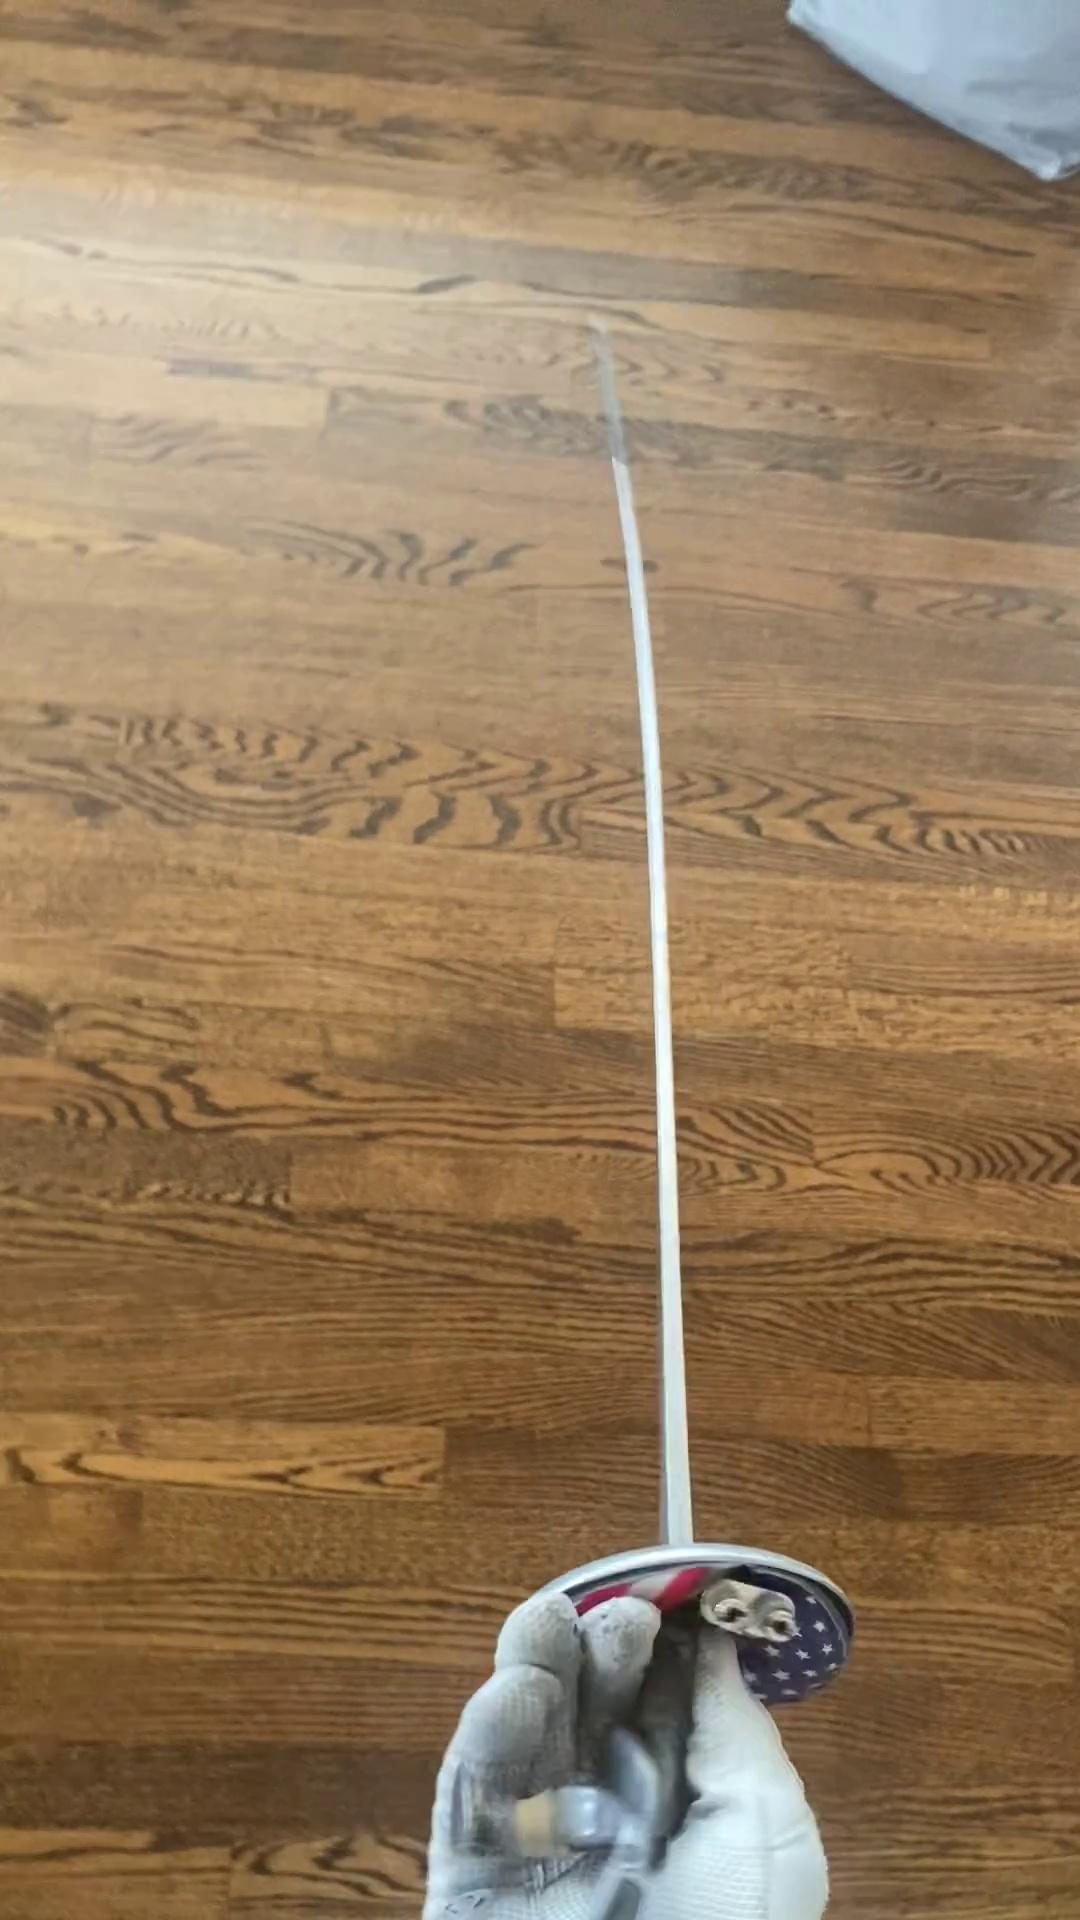blade-guard: (446, 1506, 882, 1770)
blade-tip: (546, 281, 666, 516)
fencing-blade: (484, 260, 872, 1909)
